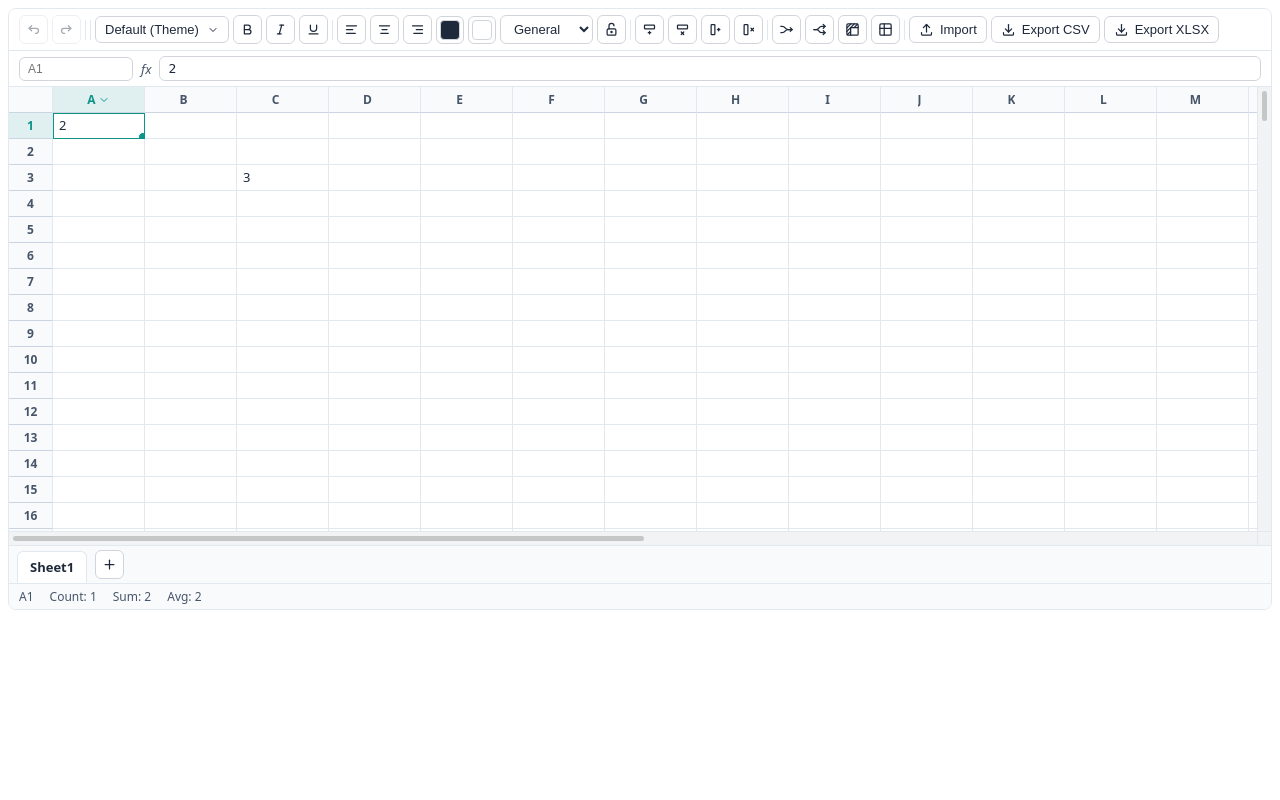
Test: operations cover every selected range › the status bar counts across them
The width and height of the screenshot is (1280, 800).
Press the mouse on the cell "3" at (283, 178), box [237, 165, 329, 191]
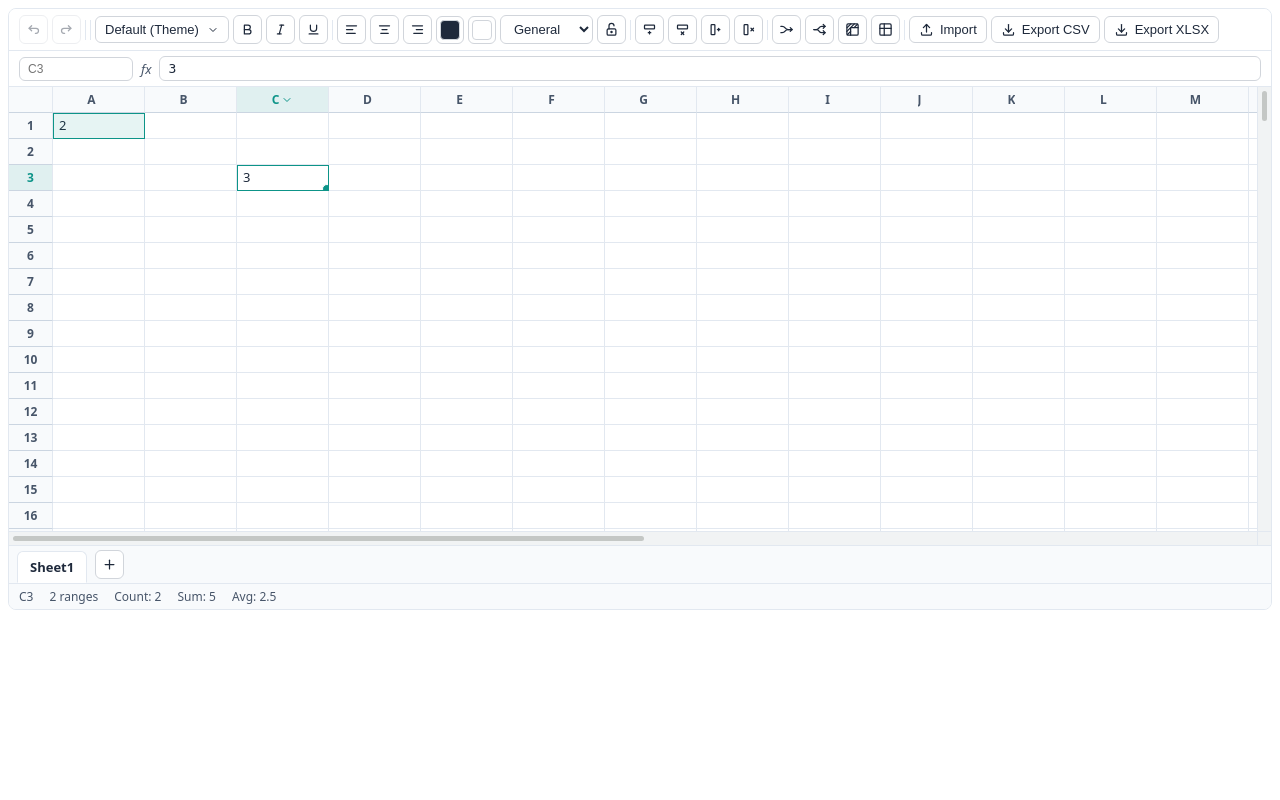
Expected: the text "2 ranges" is shown, [50, 588, 98, 605]
Expected: the text "Count: 2" is shown, [114, 588, 161, 605]
Expected: the text "Sum: 5" is shown, [178, 588, 216, 605]
